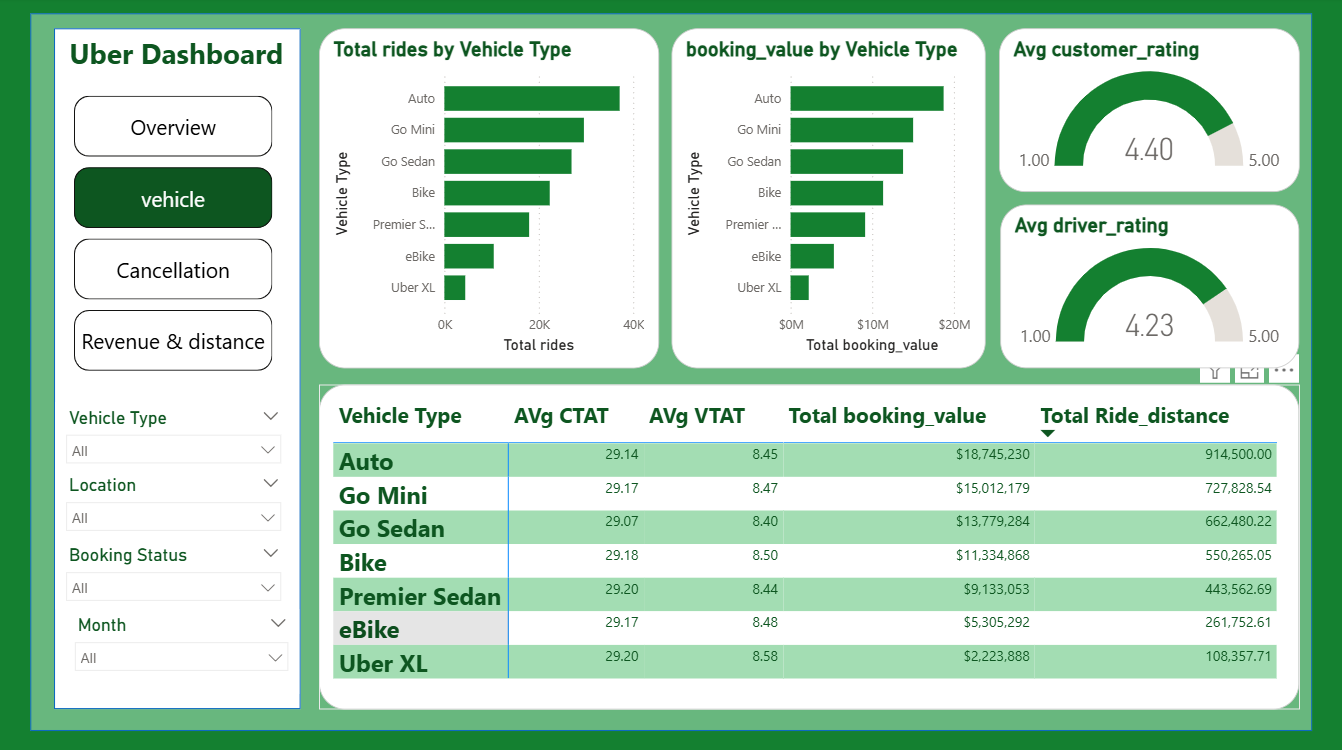

The page's visual inventory and layout, read from the dashboard file:
{"tool":"powerbi","page":{"name":"vehicle","canvas":[1280,720],"ordinal":1},"visuals":[{"type":"shape","box":[29.5,15.5,1220.9,683.6],"z":0},{"type":"shape","box":[52,29.5,234.9,648.4],"z":1000},{"type":"slicer","fields":{"Values":["Dim_vehicle_type.Vehicle Type"]},"box":[53.5,385.4,225.1,64.7],"z":2000},{"type":"slicer","fields":{"Values":["Dim_locations.Drop Location"]},"box":[53.5,450.1,225.1,66.1],"z":3000},{"type":"slicer","fields":{"Values":["Dim_date.Date.Variation.Date Hierarchy.Month"]},"box":[61.3,583.1,224,80.1],"z":4000},{"type":"slicer","fields":{"Values":["data.Booking Status"]},"box":[53.5,516.2,225.1,66.1],"z":5000},{"type":"textbox","title":"layout","box":[61.9,29.5,216.6,67.5],"z":6000},{"type":"pageNavigator","box":[71.6,94.5,189,262.1],"z":7000},{"type":"clusteredBarChart","fields":{"Y":["Measuress.Total rides"],"Category":["Dim_vehicle_type.Vehicle Type"]},"box":[305,30.1,323.7,323.7],"z":8000},{"type":"pivotTable","fields":{"Rows":["Dim_vehicle_type.Vehicle Type"],"Values":["Measuress.AVg CTAT","Measuress.AVg VTAT","Measuress.Total booking_value","Measuress.Total Ride_distance"]},"box":[305,369.5,933.7,309.3],"z":9000},{"type":"clusteredBarChart","title":"booking_value by Vehicle Type","fields":{"Category":["Dim_vehicle_type.Vehicle Type"],"Y":["Measuress.Total booking_value"]},"box":[640.1,30.1,299.3,323.7],"z":10000},{"type":"gauge","fields":{"Y":["Measuress.Avg customer_rating"]},"box":[952.3,30.1,286.4,156.1],"z":11000},{"type":"gauge","fields":{"Y":["Measuress.Avg driver_rating"]},"box":[953.8,197.6,285,156.1],"z":12000}]}

Visuals, with their boxes in screenshot pixels (x1, y1, x2, y2), scaled from the page's 1280x720 canvas onto the 1342x750 screenshot:
shape: left=31, top=16, right=1311, bottom=728
shape: left=55, top=31, right=301, bottom=706
slicer - Dim_vehicle_type.Vehicle Type: left=56, top=401, right=292, bottom=469
slicer - Dim_locations.Drop Location: left=56, top=469, right=292, bottom=538
slicer - Dim_date.Date.Variation.Date Hierarchy.Month: left=64, top=607, right=299, bottom=691
slicer - data.Booking Status: left=56, top=538, right=292, bottom=607
"layout" textbox: left=65, top=31, right=292, bottom=101
pageNavigator: left=75, top=98, right=273, bottom=371
clusteredBarChart - Measuress.Total rides x Dim_vehicle_type.Vehicle Type: left=320, top=31, right=659, bottom=369
pivotTable - Dim_vehicle_type.Vehicle Type x Measuress.AVg CTAT: left=320, top=385, right=1299, bottom=707
"booking_value by Vehicle Type" clusteredBarChart: left=671, top=31, right=985, bottom=369
gauge - Measuress.Avg customer_rating: left=998, top=31, right=1299, bottom=194
gauge - Measuress.Avg driver_rating: left=1000, top=206, right=1299, bottom=368
